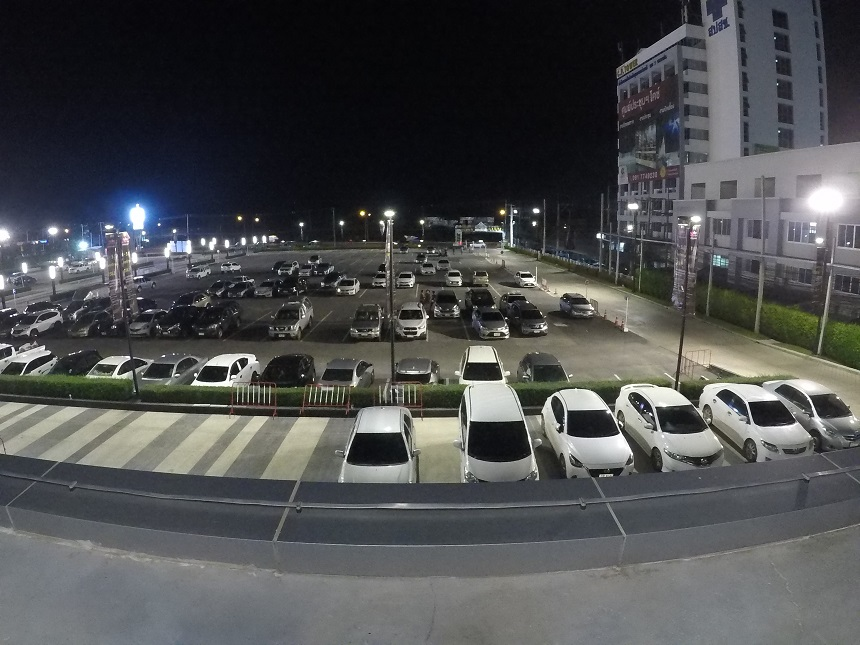busy: (463, 424, 540, 474), (339, 438, 418, 475), (564, 429, 633, 470), (655, 424, 722, 465), (742, 414, 806, 452), (455, 345, 504, 377), (815, 413, 860, 443), (208, 355, 256, 382), (150, 354, 193, 381), (322, 358, 368, 383), (264, 357, 310, 381), (397, 354, 439, 380), (520, 357, 565, 380), (100, 354, 138, 376), (395, 317, 426, 342), (476, 317, 508, 340), (157, 319, 189, 340), (267, 321, 302, 340), (60, 353, 93, 373), (351, 321, 384, 341), (19, 357, 54, 375), (192, 319, 221, 339), (516, 319, 546, 336), (97, 318, 124, 336), (130, 316, 152, 338), (14, 322, 37, 337), (69, 322, 91, 337), (1, 343, 14, 361), (1, 315, 11, 335)
